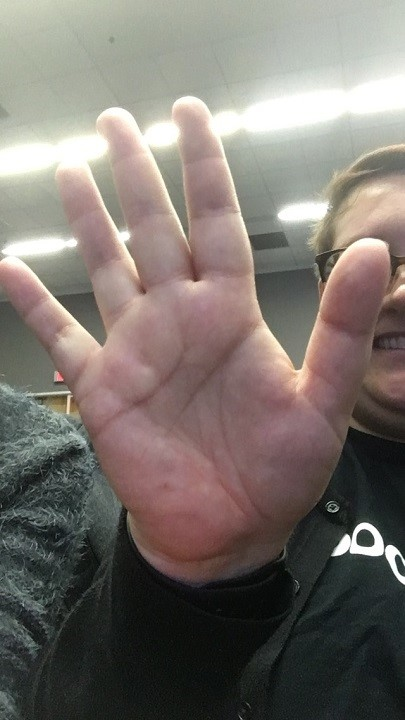hand: (2, 95, 392, 565)
